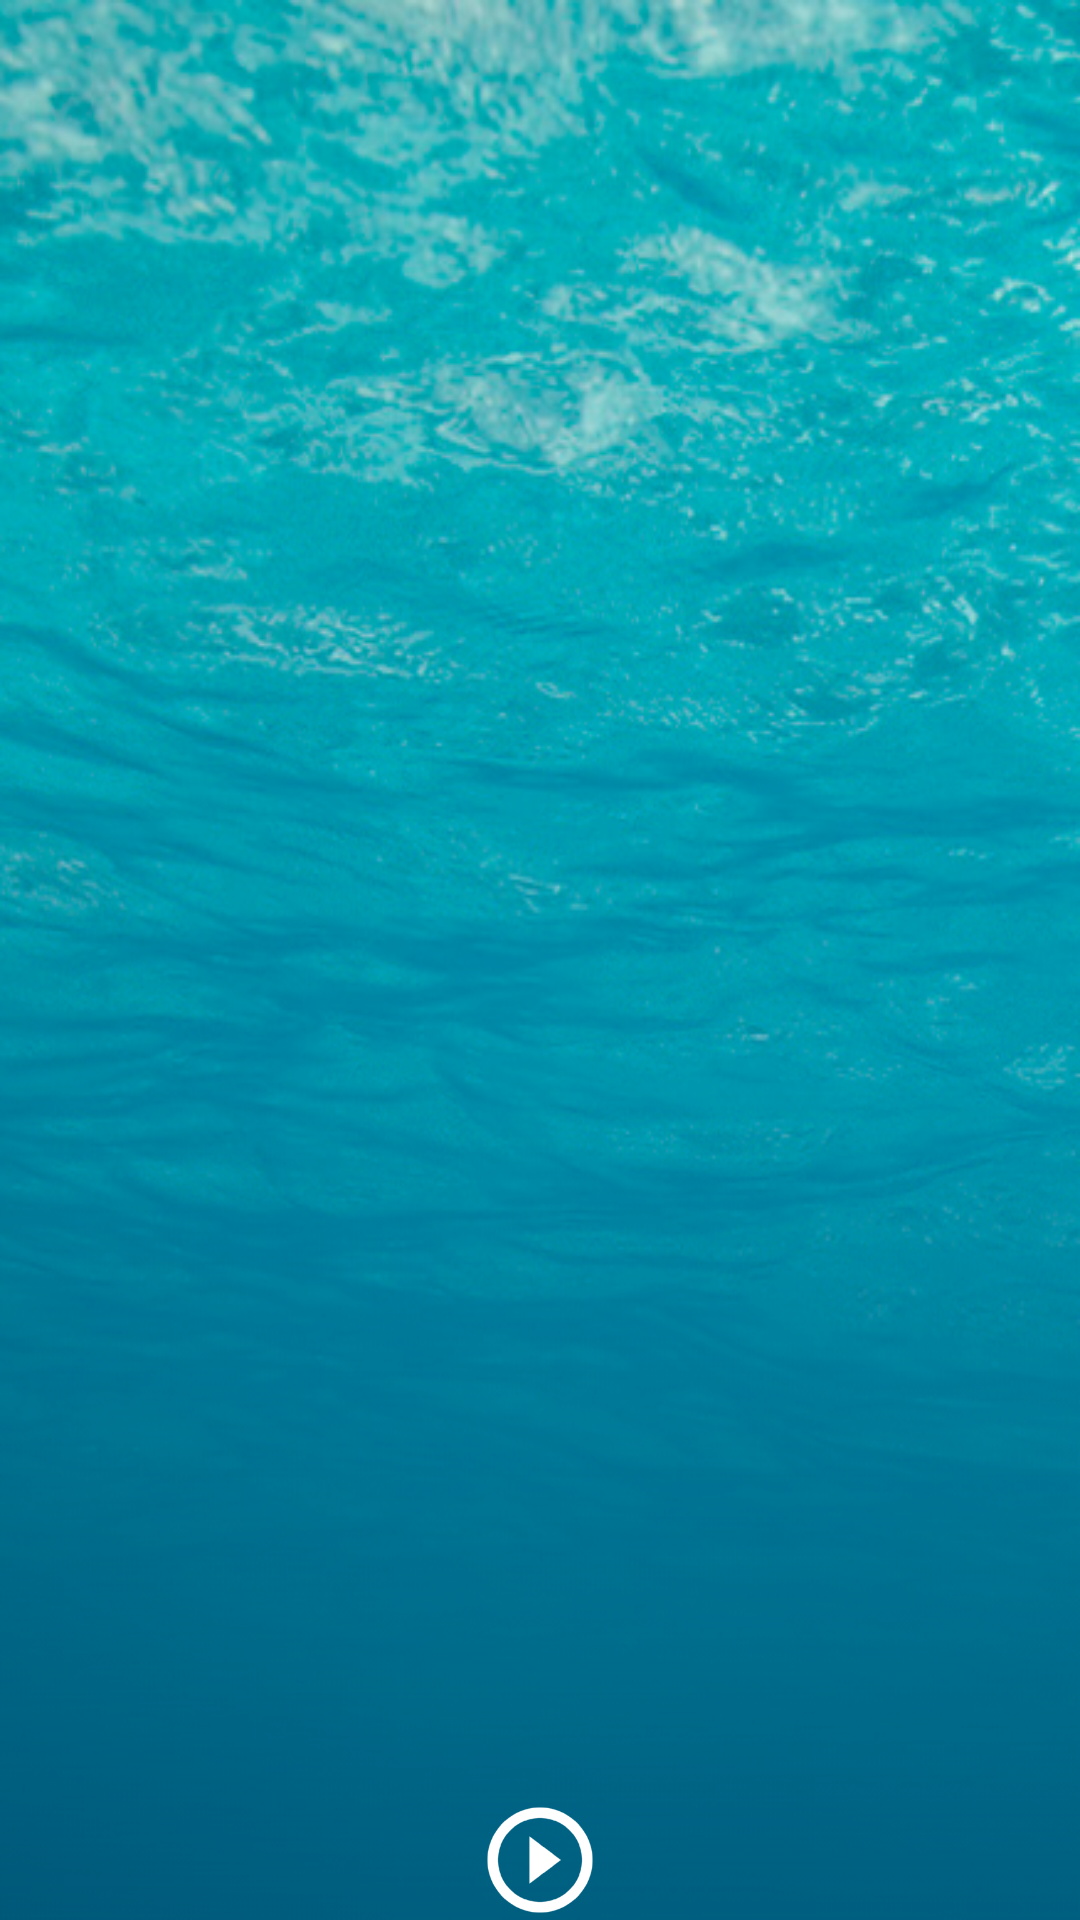

Named icons in this screenshot (1080x1920) and their centers, point (x, y):
play: point (540, 1860)
